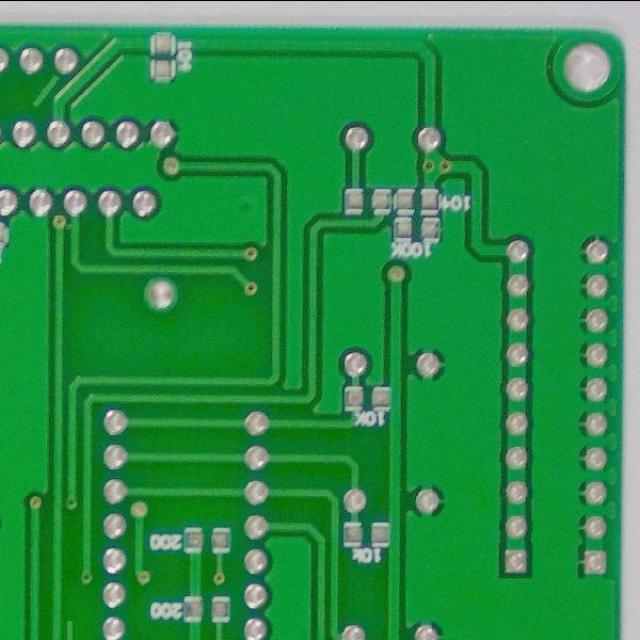Spurious_Cooper: (23, 67, 70, 112), (62, 614, 78, 640)
